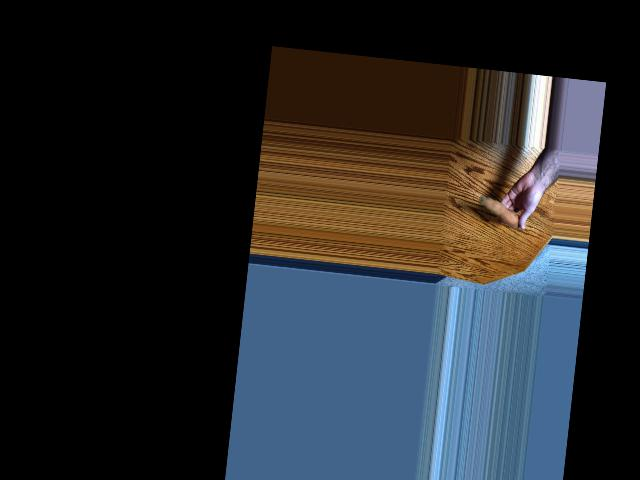sweet_potato: (475, 191, 530, 231)
